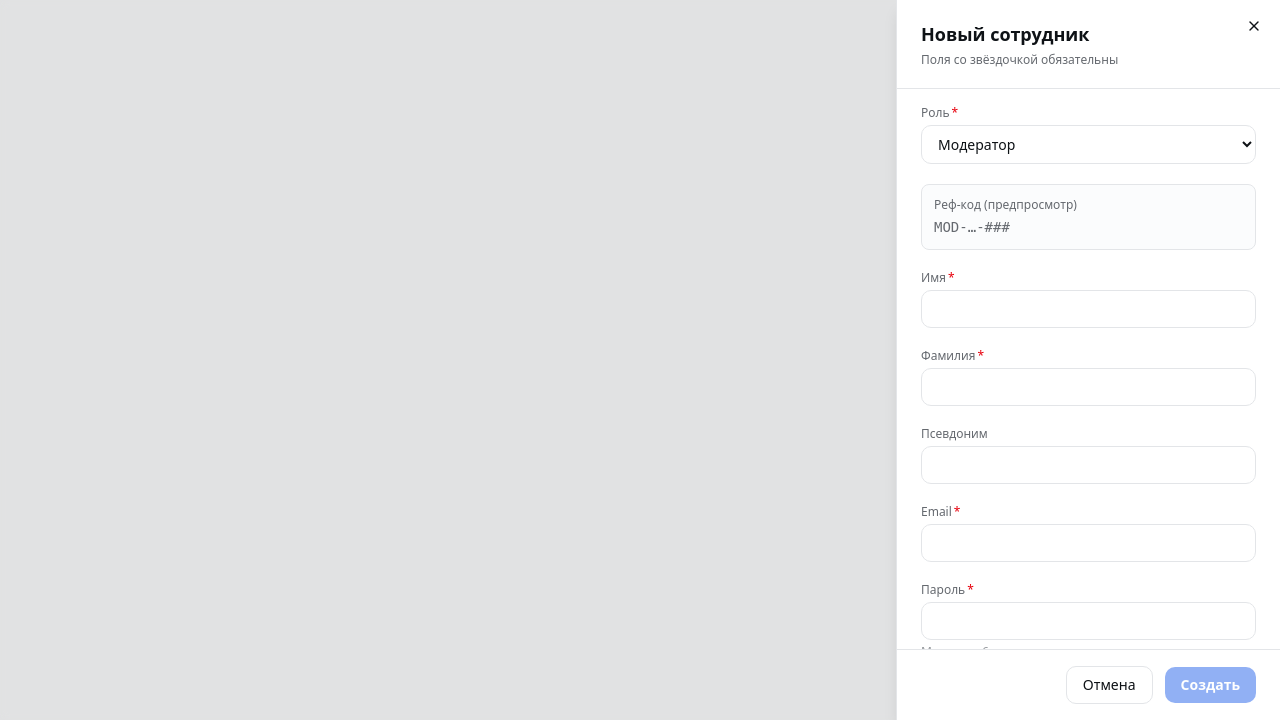
<CreateStaffSlideOut> › translates 23502 agency_id required error to Russian
Select "Оператор" in the dropdown at (1088, 144), box x1=921 y1=125 x2=1256 y2=164
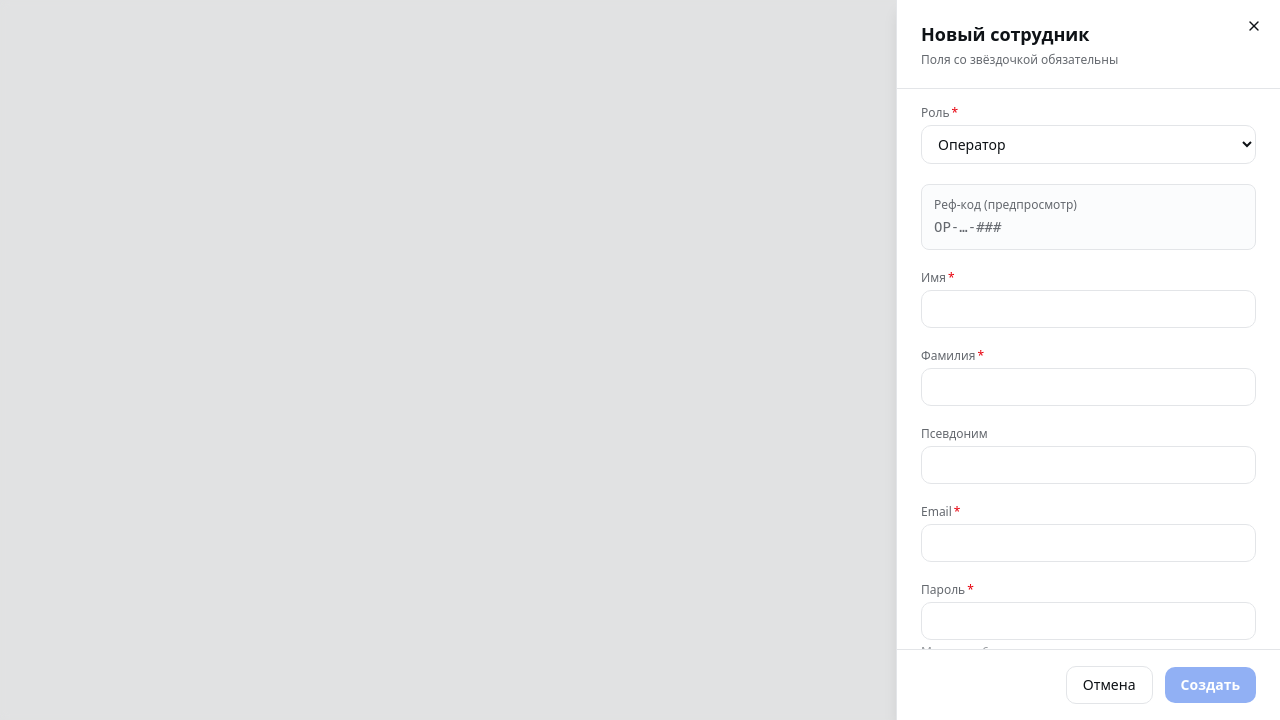
Type "Иван" into the field labelled "Имя*".
click(1088, 309); type("Иван")  # box x1=921 y1=290 x2=1256 y2=328
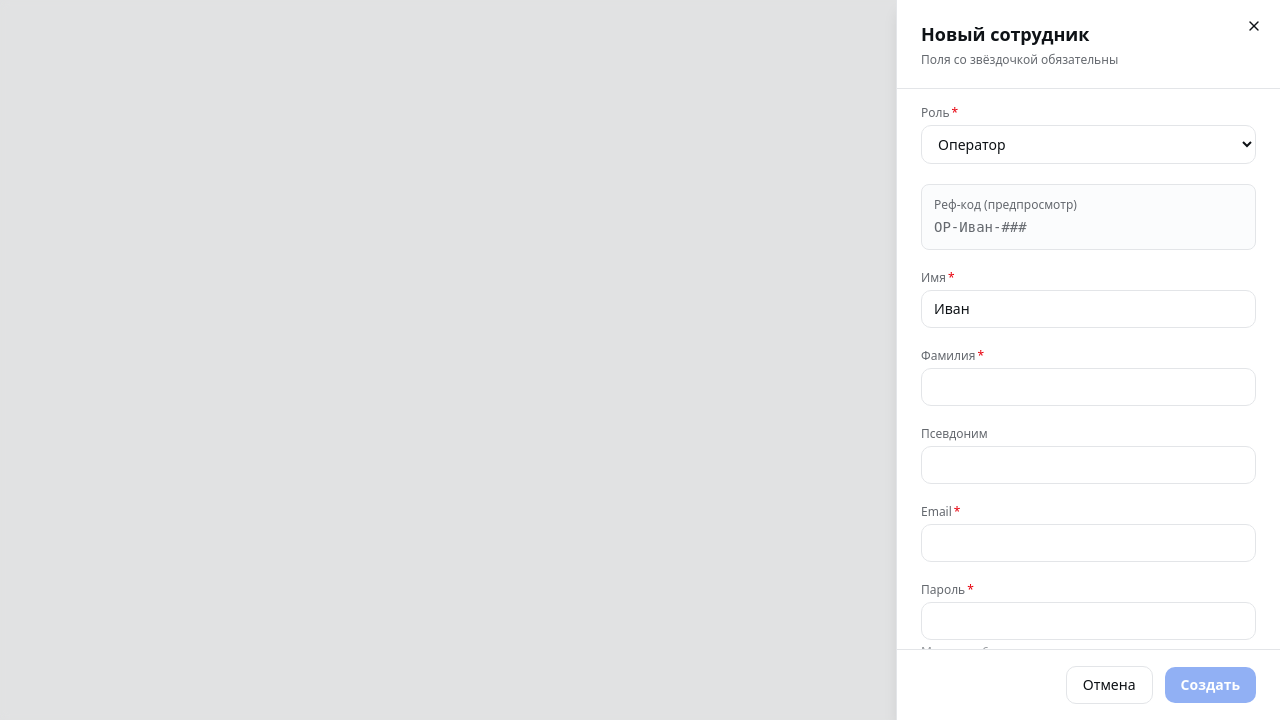
Type "Петров" into the field labelled "Фамилия*".
click(1088, 387); type("Петров")  # box x1=921 y1=368 x2=1256 y2=406
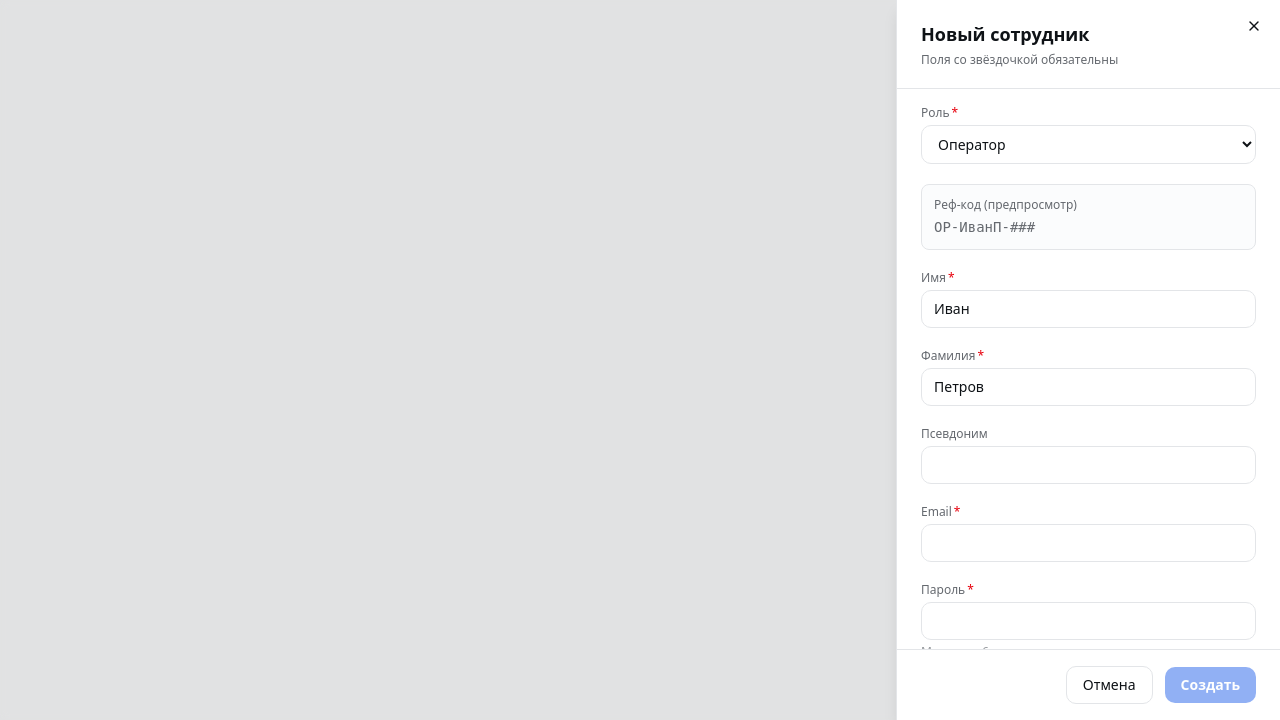
Type "i@example.com" into the field labelled "Email*".
click(1088, 543); type("i@example.com")  # box x1=921 y1=524 x2=1256 y2=562
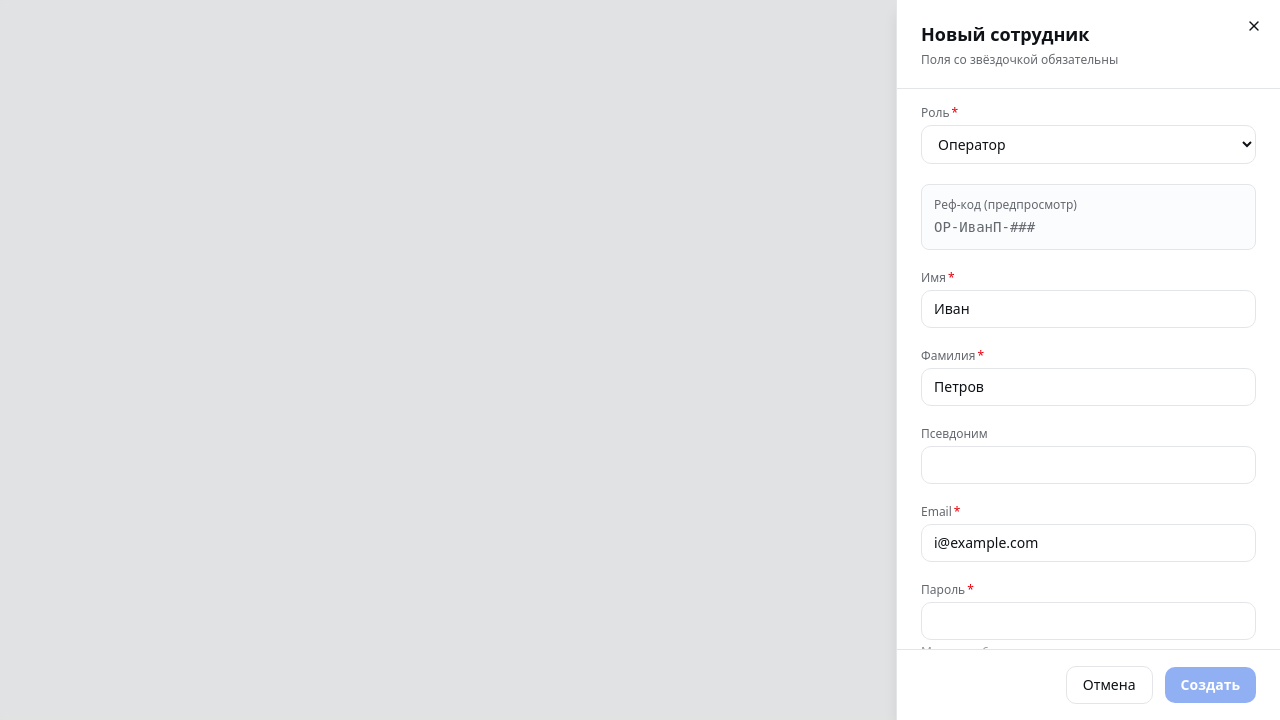
Type "secret123" into the password field labelled "Пароль* Минимум 6 символов".
click(1088, 621); type("secret123")  # box x1=921 y1=602 x2=1256 y2=640
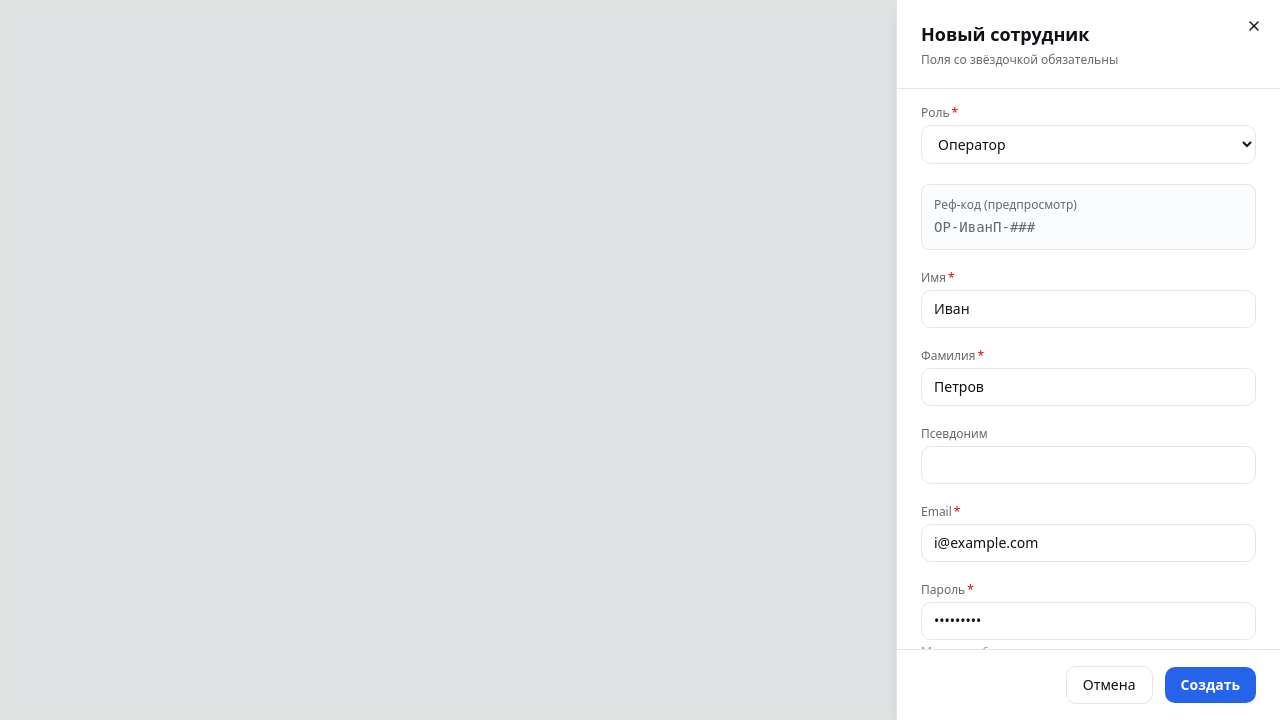
Click the button "Создать".
click(1210, 685)  # box x1=1164 y1=667 x2=1256 y2=703
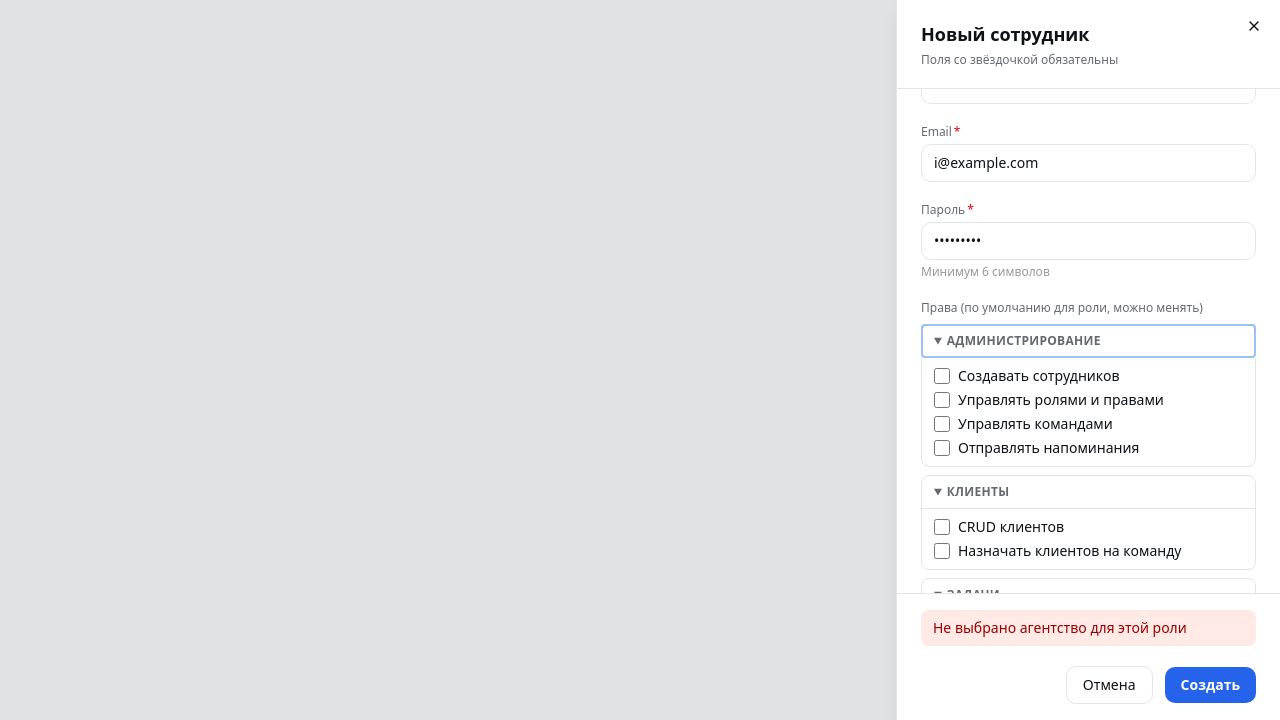
Expected: the text "Не выбрано агентство для этой роли" is shown, x1=921 y1=610 x2=1256 y2=646
